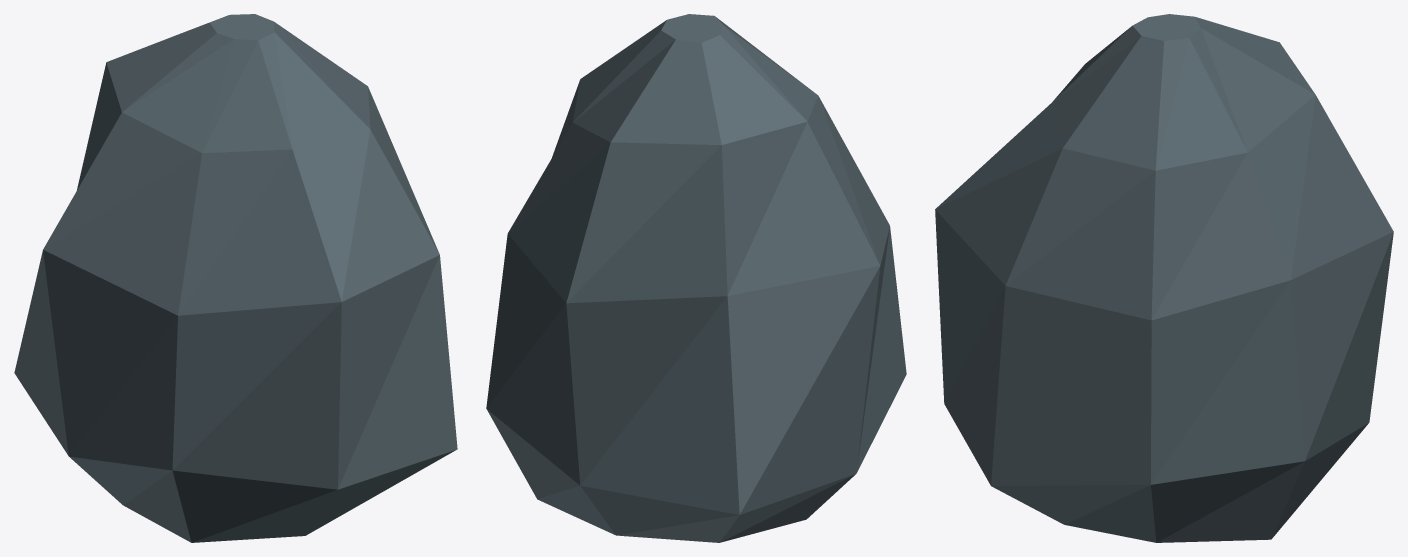
Rendered from rock_c.glb.
3 renders of one model, left to right at view 1: azimuth 30°, elevation 25°; view 2: azimuth 150°, elevation 25°; view 3: azimuth 270°, elevation 25°, orthographic.
Parts seen in each view (by area): view 1: rock_c; view 2: rock_c; view 3: rock_c.
Part boxes in pixels (x1=…): rock_c: x1=14, y1=14, x2=457, y2=542; rock_c: x1=486, y1=14, x2=906, y2=542; rock_c: x1=935, y1=14, x2=1393, y2=542.
Bounding box in the file's own units: 0.8346 × 1 × 0.9015.
